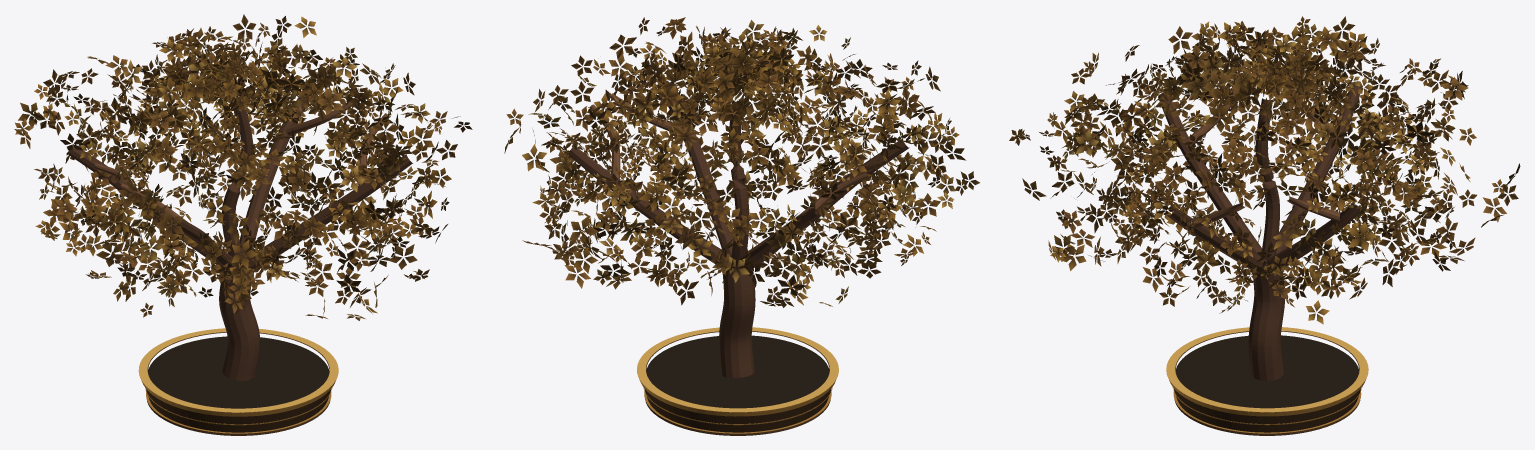
Rendered from zen_tree.glb.
The picture shows the model from 3 angles, left to right: view 1: azimuth 30°, elevation 25°; view 2: azimuth 150°, elevation 25°; view 3: azimuth 270°, elevation 25°; orthographic projection.
Visible parts, largest first — view 1: SakuraCanopyBronzeGold, PottingSoil, Bark, AntiqueBronze, GoldHighlight, GoldTrim, BarkHighlights; view 2: SakuraCanopyBronzeGold, Bark, PottingSoil, AntiqueBronze, GoldHighlight, GoldTrim, BarkHighlights; view 3: SakuraCanopyBronzeGold, Bark, PottingSoil, AntiqueBronze, GoldHighlight, GoldTrim, BarkHighlights.
Boxes of the visible parts, <box> form: SakuraCanopyBronzeGold: <box>14,14,472,320</box>; PottingSoil: <box>148,336,329,408</box>; Bark: <box>66,97,412,381</box>; AntiqueBronze: <box>146,332,331,435</box>; GoldHighlight: <box>138,328,338,412</box>; GoldTrim: <box>139,375,337,433</box>; BarkHighlights: <box>93,97,387,224</box>; SakuraCanopyBronzeGold: <box>504,17,979,307</box>; Bark: <box>567,80,909,378</box>; PottingSoil: <box>646,335,829,408</box>; AntiqueBronze: <box>644,331,831,435</box>; GoldHighlight: <box>637,327,838,411</box>; GoldTrim: <box>637,371,838,433</box>; BarkHighlights: <box>590,93,885,215</box>; SakuraCanopyBronzeGold: <box>1009,16,1520,324</box>; Bark: <box>1158,82,1362,380</box>; PottingSoil: <box>1176,335,1358,408</box>; AntiqueBronze: <box>1173,331,1360,435</box>; GoldHighlight: <box>1166,327,1368,411</box>; GoldTrim: <box>1166,371,1368,433</box>; BarkHighlights: <box>1188,82,1340,228</box>.
Bounding box in the file's own units: 8.41 × 7.18 × 9.11.
